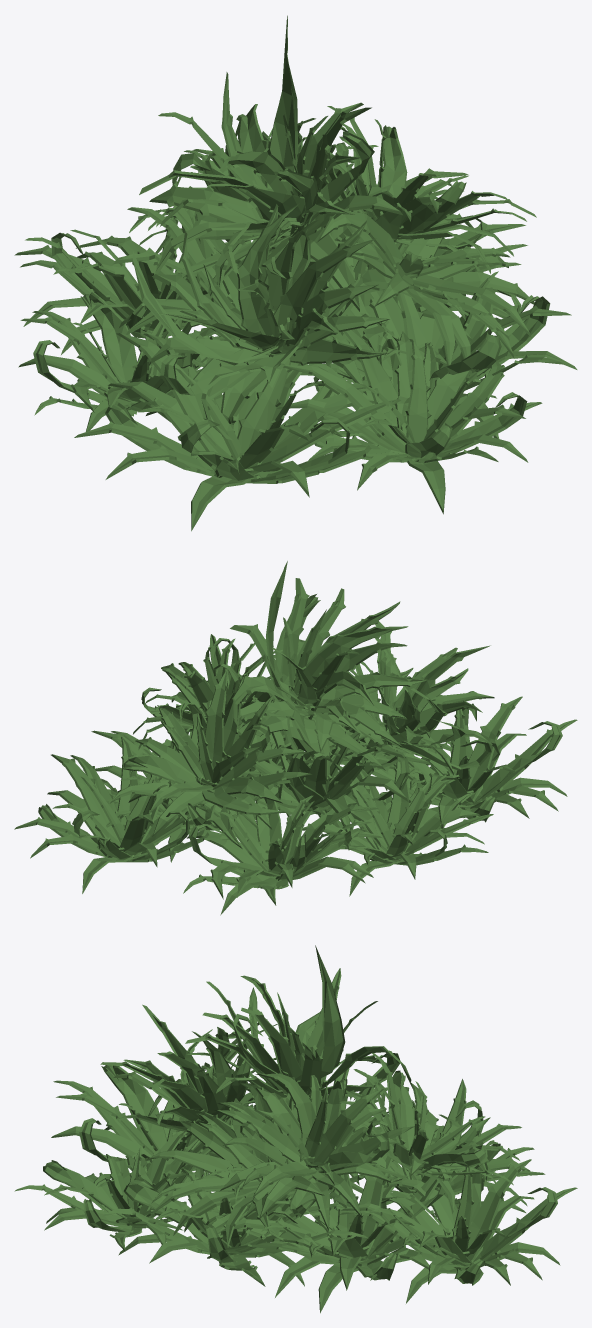
File: Aloe_03.fbx
The picture shows the model from 3 angles, top to bottom: view 1: azimuth 30°, elevation 25°; view 2: azimuth 150°, elevation 25°; view 3: azimuth 270°, elevation 25°; orthographic projection. The views are drawn at different scales.
Visible parts, largest first — view 1: SM_Foliage_Aloe_03.mo; view 2: SM_Foliage_Aloe_03.mo; view 3: SM_Foliage_Aloe_03.mo.
Boxes of the visible parts, x1,y1,x2,y2 form: SM_Foliage_Aloe_03.mo: [14, 15, 577, 531]; SM_Foliage_Aloe_03.mo: [14, 561, 577, 915]; SM_Foliage_Aloe_03.mo: [14, 945, 577, 1313].
Bounding box in the file's own units: 208 × 141 × 251.
